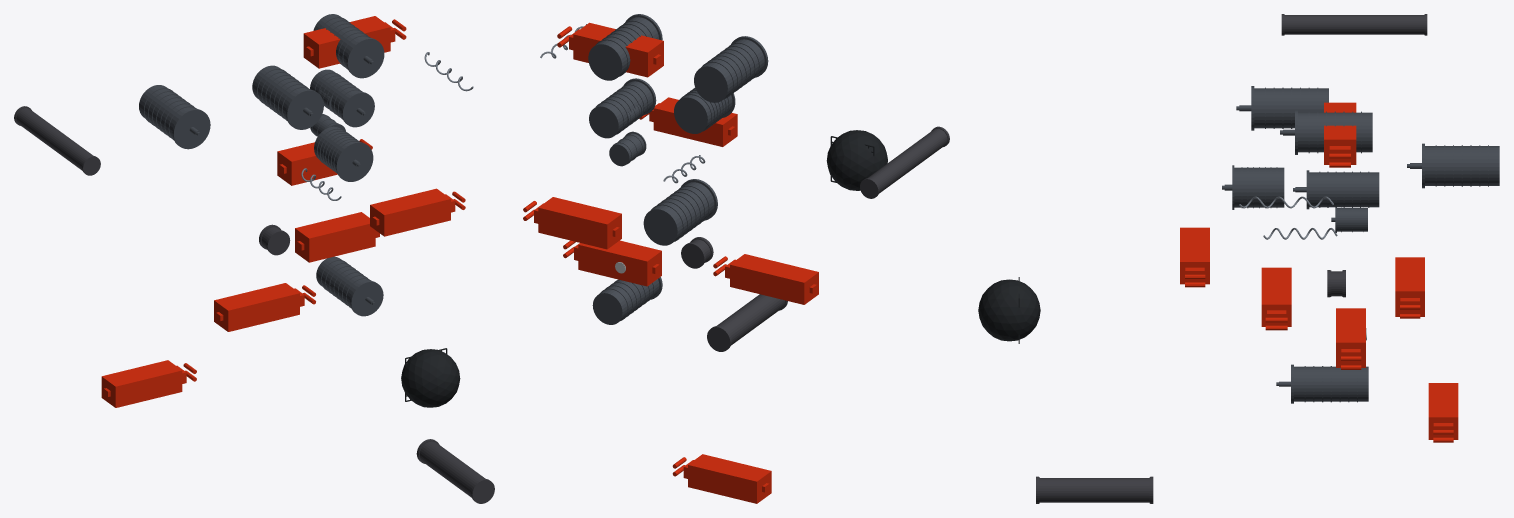
The model's file is gen89_exploded.glb.
3 renders of one model, left to right at view 1: azimuth 30°, elevation 25°; view 2: azimuth 150°, elevation 25°; view 3: azimuth 270°, elevation 25°, orthographic. The views are drawn at different scales.
Parts seen in each view (by area): view 1: high_power_lipo_45dd22b1_x_x, high_power_lipo_45dd22b1_x_x_x, high_power_lipo_f67130ef, high_power_lipo_f67130ef_x, brushless_motor_cfae4e60_x_x, brushless_motor_cfae4e60_x_x_x, sprint_foot_b6c6f15d, brushless_motor_9fdb3eae_x_x, brushless_motor_fc180daf_x, brushless_motor_fc180daf, high_power_lipo_c16803da_x, carbon_tube_f043efa7 (+4 smaller); view 2: high_power_lipo_a9765c09, high_power_lipo_45dd22b1_x_x, high_power_lipo_45dd22b1_x_x_x, brushless_motor_cfae4e60_x_x_x, brushless_motor_cfae4e60_x_x, high_power_lipo_f67130ef_x, sprint_foot_b6c6f15d, high_power_lipo_c16803da_x, brushless_motor_fc180daf_x, brushless_motor_e66017d5_x, carbon_tube_3ac4c08c, carbon_tube_f043efa7 (+5 smaller); view 3: brushless_motor_cfae4e60_x_x_x, sprint_foot_b6c6f15d, carbon_tube_f043efa7, carbon_tube_3ac4c08c, brushless_motor_9fdb3eae_x_x, brushless_motor_cfae4e60_x_x, brushless_motor_e66017d5_x, brushless_motor_fc180daf_x, brushless_motor_fc180daf, high_power_lipo_45dd22b1_x_x, high_power_lipo_a9765c09, high_power_lipo_f67130ef_x (+4 smaller).
Boxes of the visible parts, <box> form: high_power_lipo_45dd22b1_x_x: <box>214,283,315,331</box>; high_power_lipo_45dd22b1_x_x_x: <box>101,360,196,407</box>; high_power_lipo_f67130ef: <box>370,188,465,236</box>; high_power_lipo_f67130ef_x: <box>295,212,379,262</box>; brushless_motor_cfae4e60_x_x: <box>252,65,323,129</box>; brushless_motor_cfae4e60_x_x_x: <box>139,85,210,149</box>; sprint_foot_b6c6f15d: <box>401,348,460,407</box>; brushless_motor_9fdb3eae_x_x: <box>316,256,383,316</box>; brushless_motor_fc180daf_x: <box>313,14,384,78</box>; brushless_motor_fc180daf: <box>314,126,373,181</box>; high_power_lipo_c16803da_x: <box>303,16,406,68</box>; carbon_tube_f043efa7: <box>416,439,494,503</box>; high_power_lipo_a9765c09: <box>523,197,621,249</box>; high_power_lipo_45dd22b1_x_x: <box>713,254,818,304</box>; high_power_lipo_45dd22b1_x_x_x: <box>672,454,771,503</box>; brushless_motor_cfae4e60_x_x_x: <box>643,179,717,245</box>; brushless_motor_cfae4e60_x_x: <box>694,36,768,102</box>; high_power_lipo_f67130ef_x: <box>563,240,661,286</box>; sprint_foot_b6c6f15d: <box>826,130,887,190</box>; high_power_lipo_c16803da_x: <box>557,22,663,77</box>; brushless_motor_fc180daf_x: <box>588,14,662,80</box>; brushless_motor_e66017d5_x: <box>589,78,656,138</box>; carbon_tube_3ac4c08c: <box>860,126,949,198</box>; carbon_tube_f043efa7: <box>707,294,787,351</box>; brushless_motor_cfae4e60_x_x_x: <box>1407,143,1499,188</box>; sprint_foot_b6c6f15d: <box>978,277,1040,343</box>; carbon_tube_f043efa7: <box>1036,476,1153,503</box>; carbon_tube_3ac4c08c: <box>1281,14,1427,35</box>; brushless_motor_9fdb3eae_x_x: <box>1276,364,1368,403</box>; brushless_motor_cfae4e60_x_x: <box>1236,86,1328,130</box>; brushless_motor_e66017d5_x: <box>1293,170,1379,209</box>; brushless_motor_fc180daf_x: <box>1280,110,1372,154</box>; brushless_motor_fc180daf: <box>1222,165,1284,209</box>; high_power_lipo_45dd22b1_x_x: <box>1261,267,1291,330</box>; high_power_lipo_a9765c09: <box>1395,257,1424,318</box>; high_power_lipo_f67130ef_x: <box>1336,308,1365,369</box>.
Bounding box in the file's own units: 0.7232 × 0.6954 × 0.8358.
